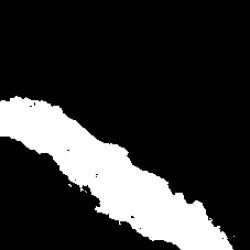crack: (2, 97, 230, 247)
